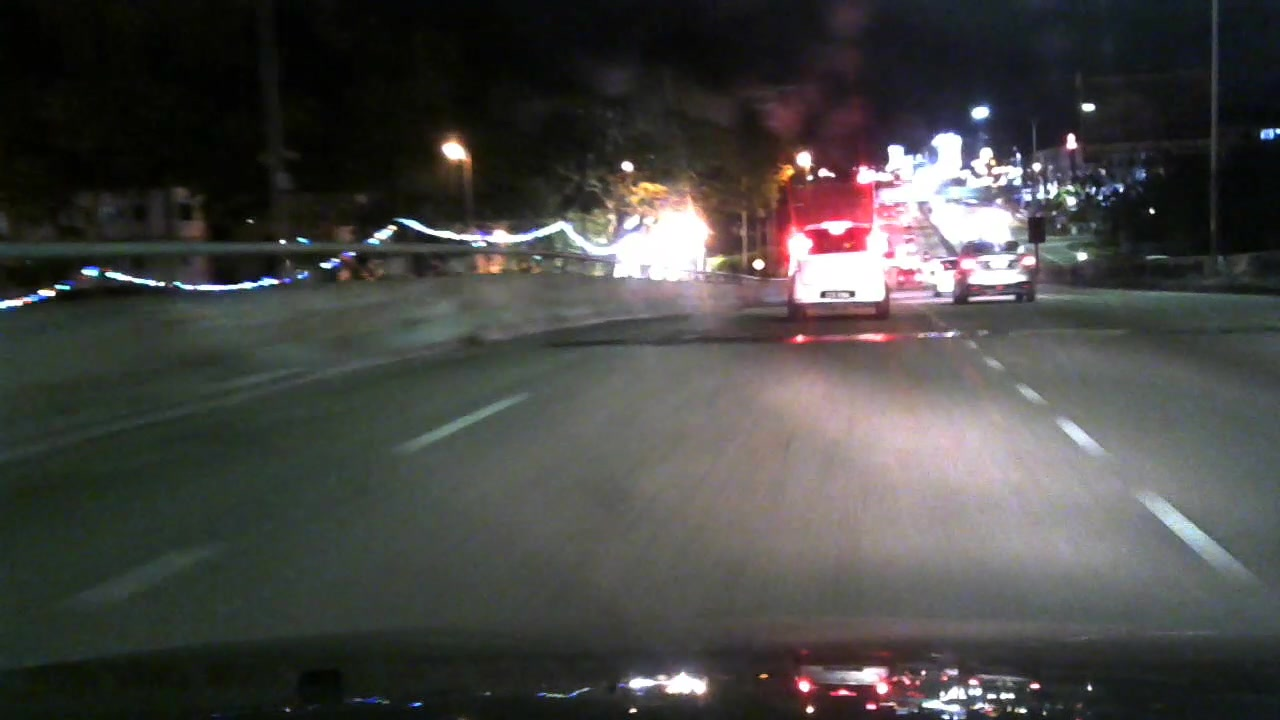Car: (783, 206, 887, 327), (949, 231, 1043, 304), (897, 264, 924, 291)
